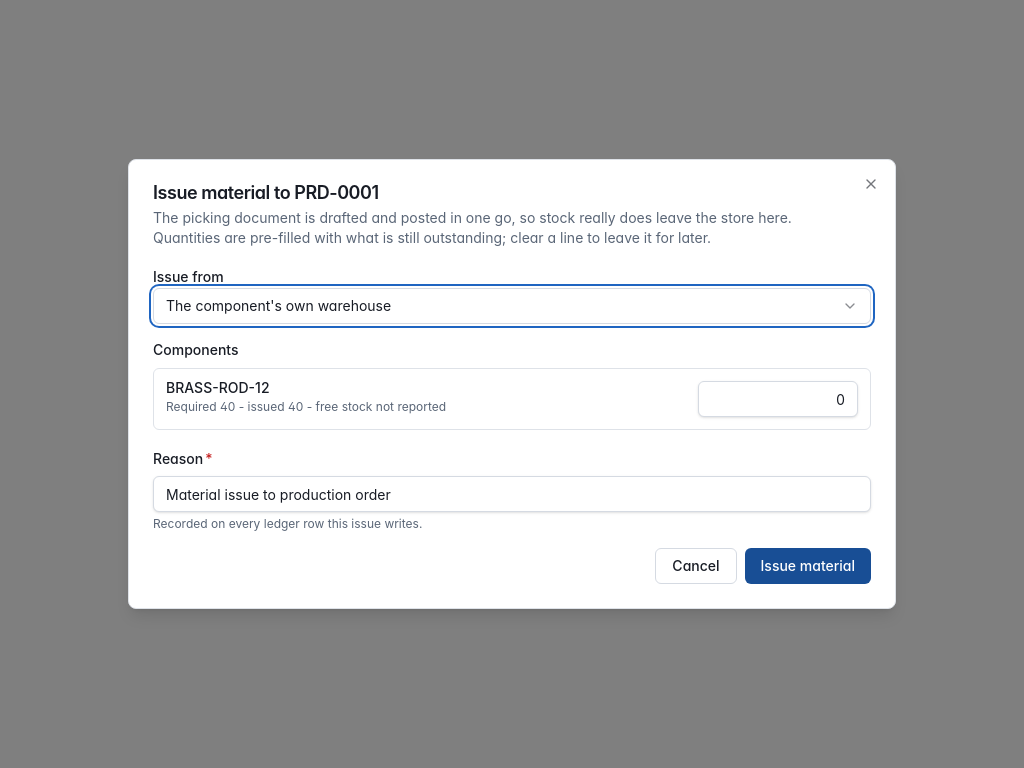
Test: issuing material › refuses to submit with nothing keyed, and says so where the operator is looking
Expected: the field labelled "BRASS-ROD-12" is shown, 698,381 -> 858,417
Click the button "Issue material" at (808, 566), box 744,548 -> 871,584
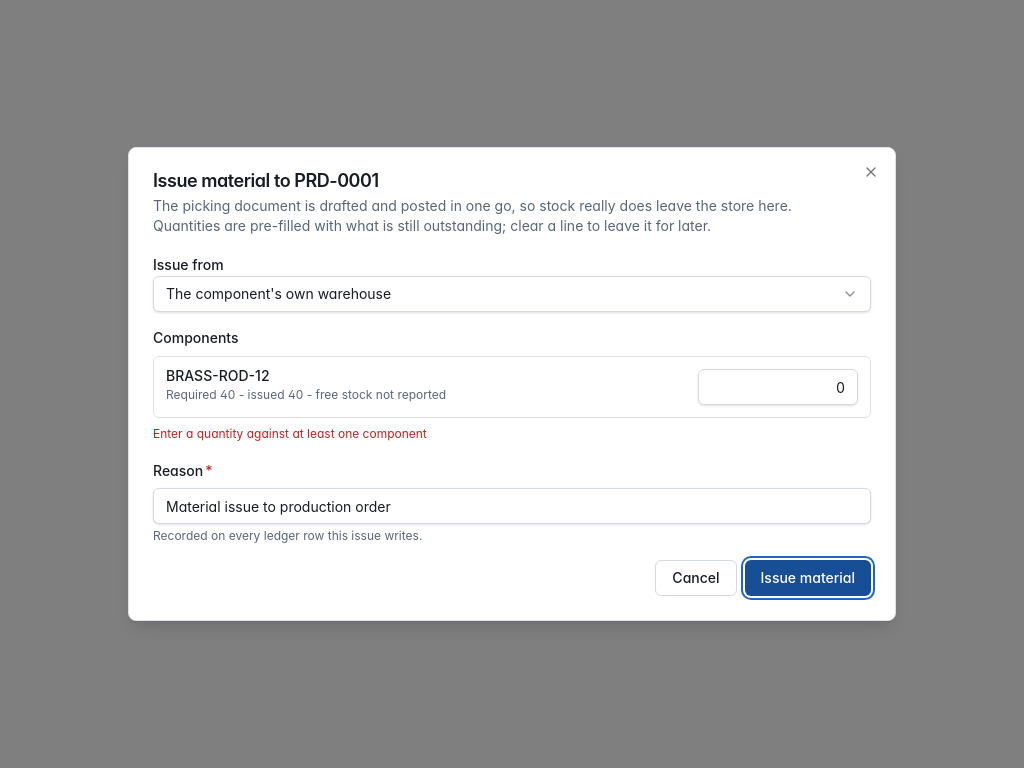
Now the text "Enter a quantity against at least one component" is shown, box 153,426 -> 427,441
